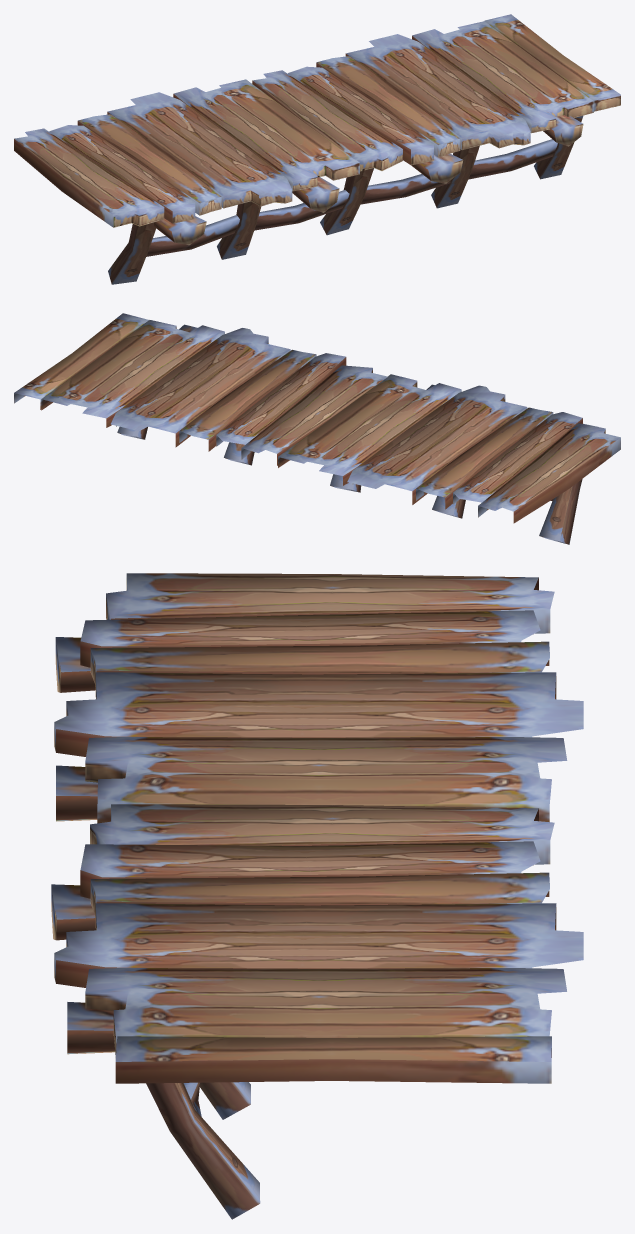
File: Map_10_wooden14.FBX
3 renders of one model, top to bottom at view 1: azimuth 30°, elevation 25°; view 2: azimuth 150°, elevation 25°; view 3: azimuth 270°, elevation 25°, orthographic. The views are drawn at different scales.
Visible parts, largest first — view 1: Map_10_wooden14; view 2: Map_10_wooden14; view 3: Map_10_wooden14.
Boxes of the visible parts, x1,y1,x2,y2 form: Map_10_wooden14: [14, 14, 620, 284]; Map_10_wooden14: [14, 313, 620, 544]; Map_10_wooden14: [51, 573, 583, 1219].
Size of the model in its own units: 25.49 by 4.81 by 11.74.
